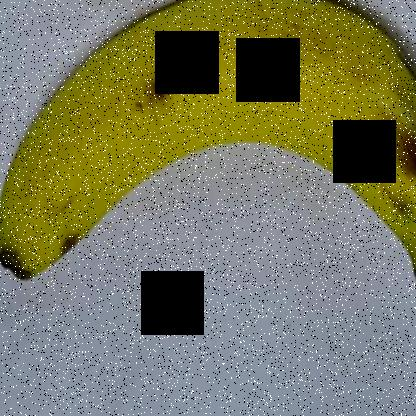freshripe: (0, 1, 415, 298)
